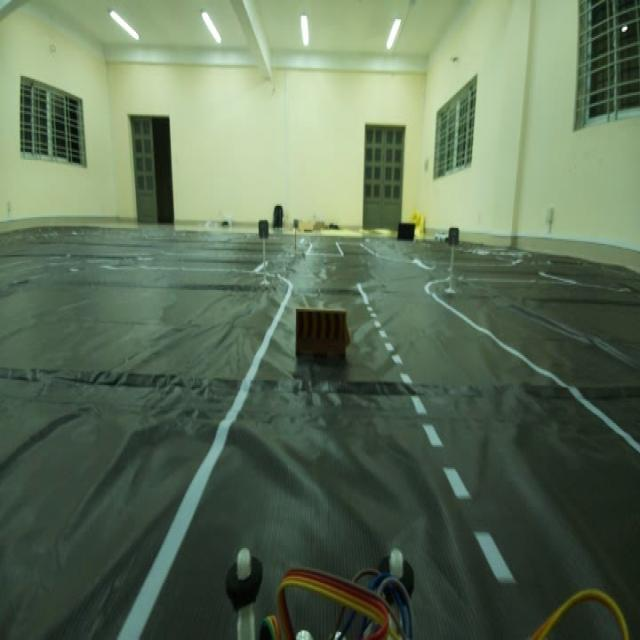roadblock: (291, 302, 354, 373)
